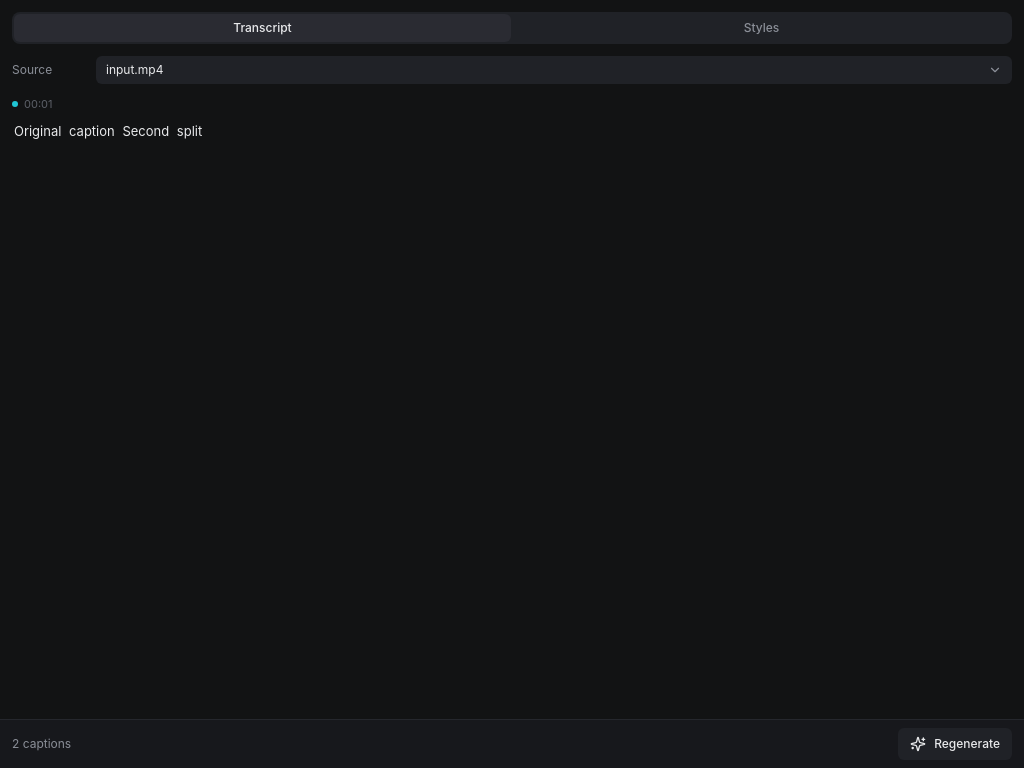
Test: CaptionsPanel › transcript › asks before regenerating existing captions and replaces them in one batch
This screenshot has width=1024, height=768.
Click the button "Regenerate".
click(955, 744)  # box [898,728,1012,760]
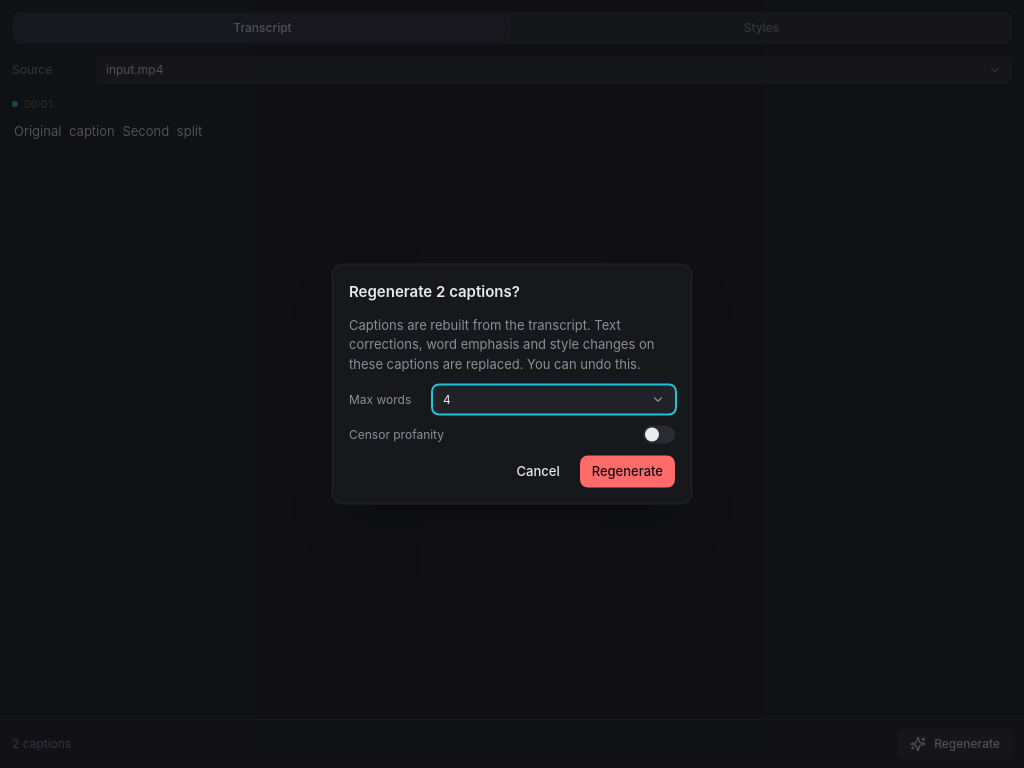
Click the button "Regenerate".
click(627, 472)  # box [580,456,675,488]
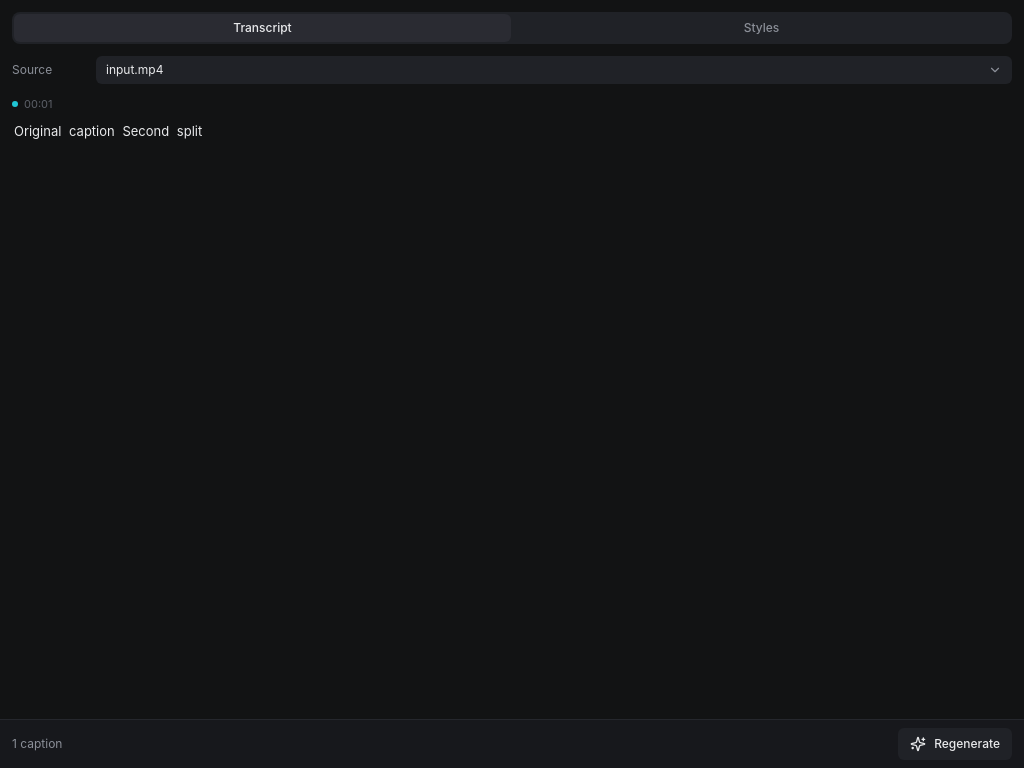
Check: the dialog is gone
